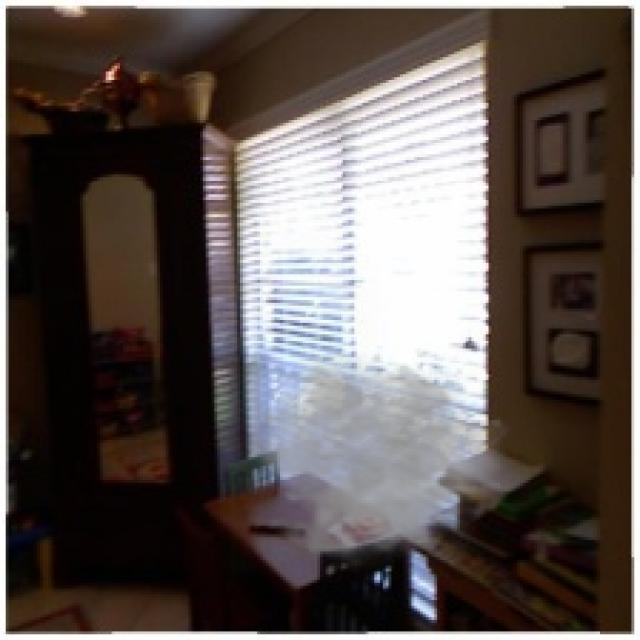Smoke: (242, 354, 514, 574)
